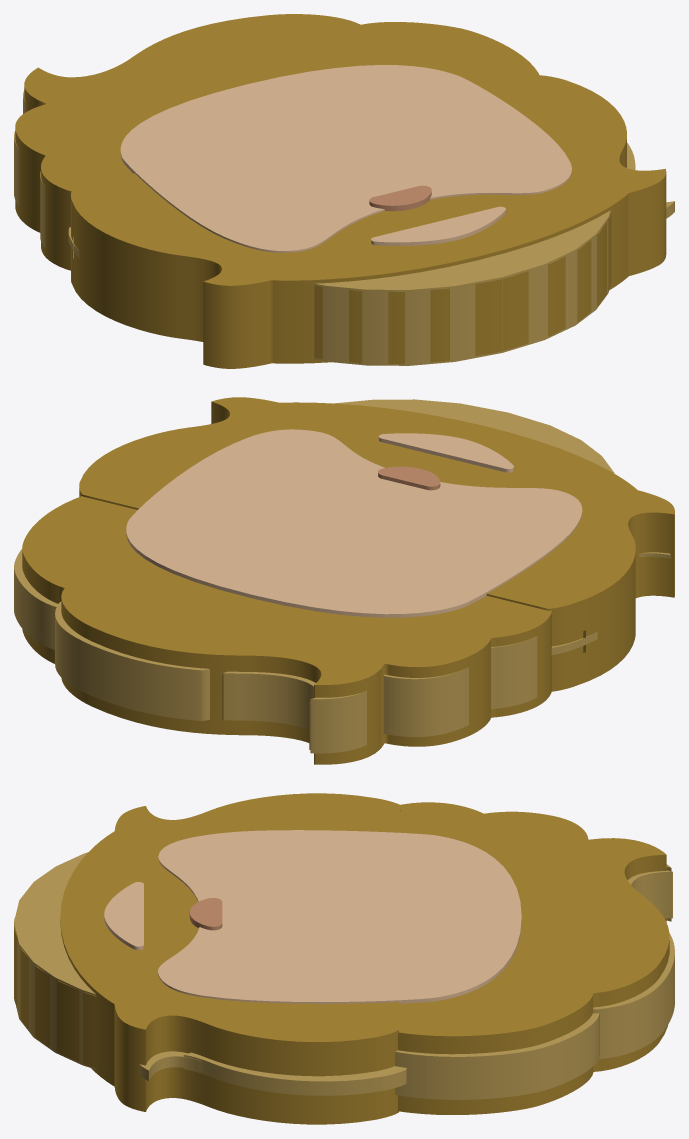
File: emoji_u1f9d4_1f3fc.glb
3 renders of one model, top to bottom at view 1: azimuth 30°, elevation 25°; view 2: azimuth 150°, elevation 25°; view 3: azimuth 270°, elevation 25°, orthographic.
Parts seen in each view (by area): view 1: emoji_u1f9d4_1f3fc; view 2: emoji_u1f9d4_1f3fc; view 3: emoji_u1f9d4_1f3fc.
Boxes of the visible parts, box(x1,y1,x2,y2) form: emoji_u1f9d4_1f3fc: box(14, 14, 674, 368); emoji_u1f9d4_1f3fc: box(14, 397, 674, 764); emoji_u1f9d4_1f3fc: box(14, 793, 674, 1124).
Bounding box in the file's own units: 0.0304 × 0.0052 × 0.0334.
